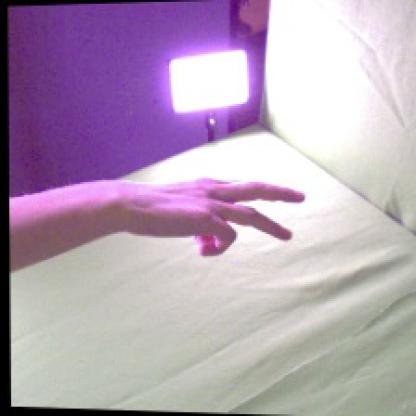Hand: (104, 175, 307, 258)
